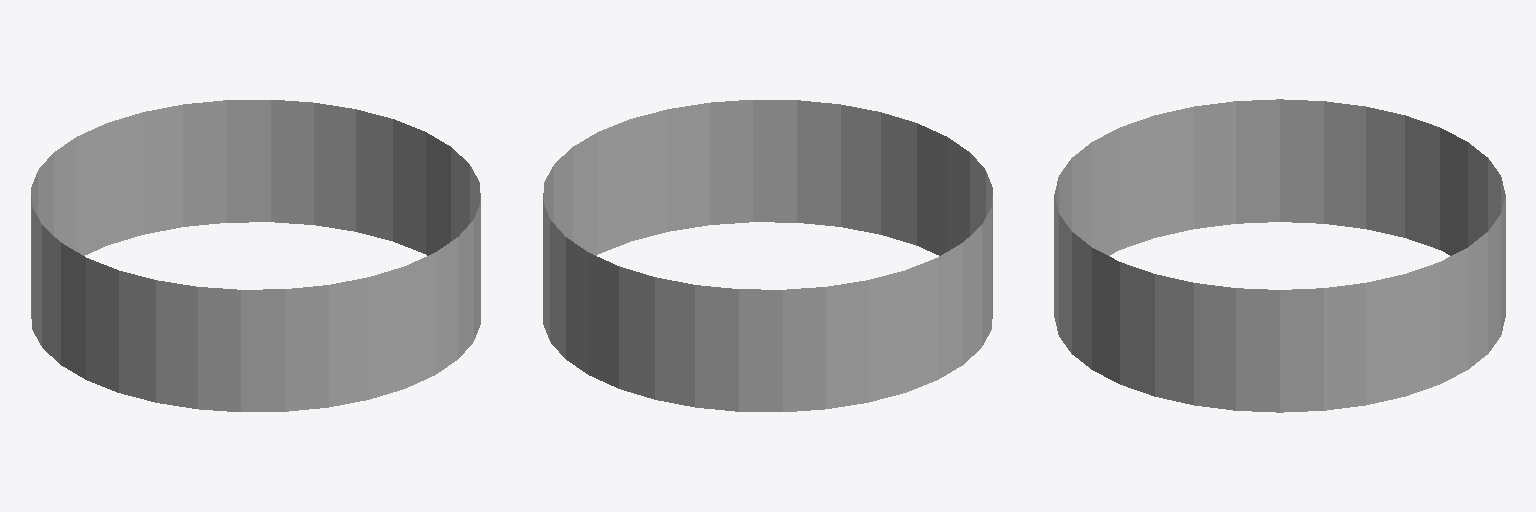
Rendered from DeliveryZone.obj.
3 renders of one model, left to right at view 1: azimuth 30°, elevation 25°; view 2: azimuth 150°, elevation 25°; view 3: azimuth 270°, elevation 25°, orthographic.
Parts seen in each view (by area): view 1: Cylinder; view 2: Cylinder; view 3: Cylinder.
Part boxes in pixels (x1,y1,x2,y2): Cylinder: (31,100,480,411); Cylinder: (543,100,992,411); Cylinder: (1054,99,1505,412).
Bounding box in the file's own units: 2 × 0.6 × 2.